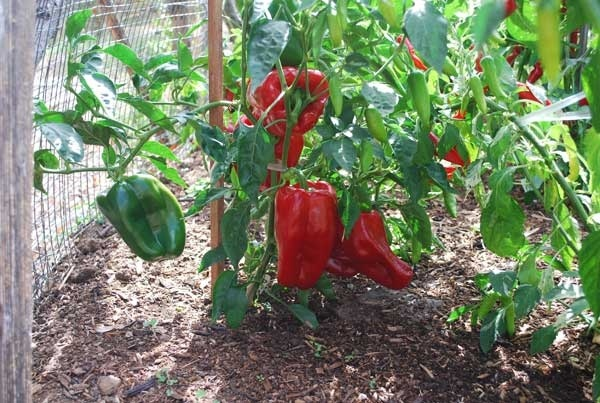fruit: (94, 172, 185, 262), (338, 185, 414, 289), (273, 182, 338, 290), (254, 65, 328, 135), (234, 116, 305, 168), (326, 239, 361, 278)
pedicle: (291, 86, 308, 109), (297, 184, 322, 193)
